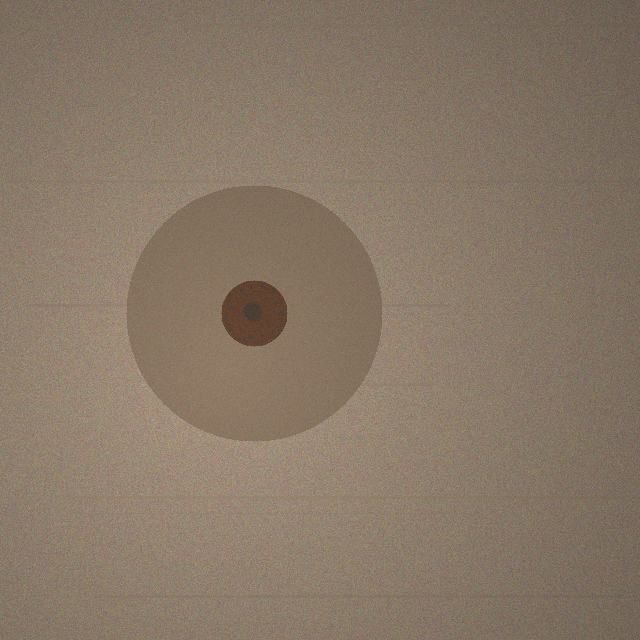cold_weld: (126, 185, 382, 441)
